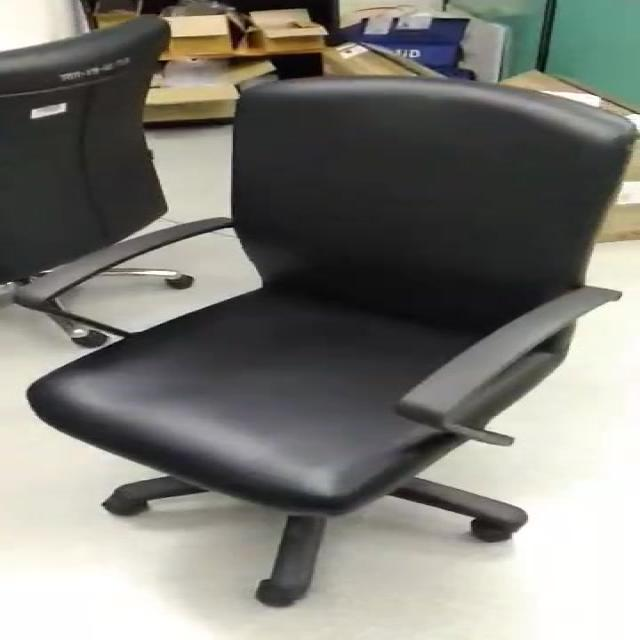chair: (0, 53, 640, 634)
